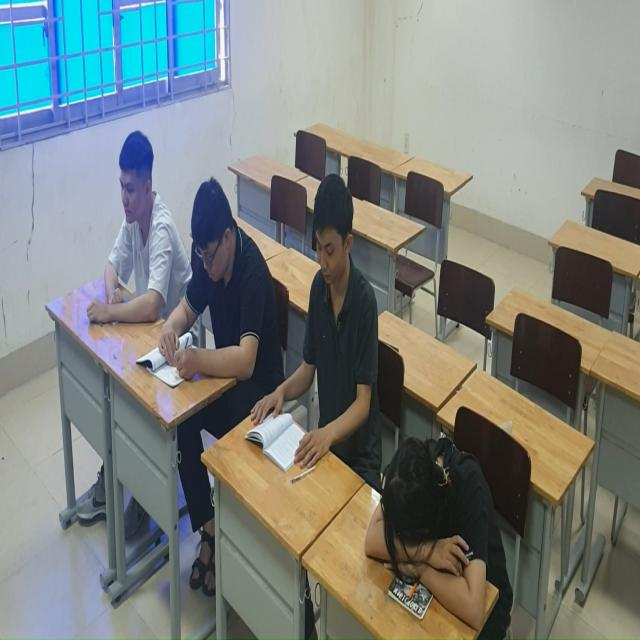read: (243, 170, 391, 487), (136, 178, 270, 395), (78, 108, 198, 349)
sleep: (348, 439, 519, 640)
